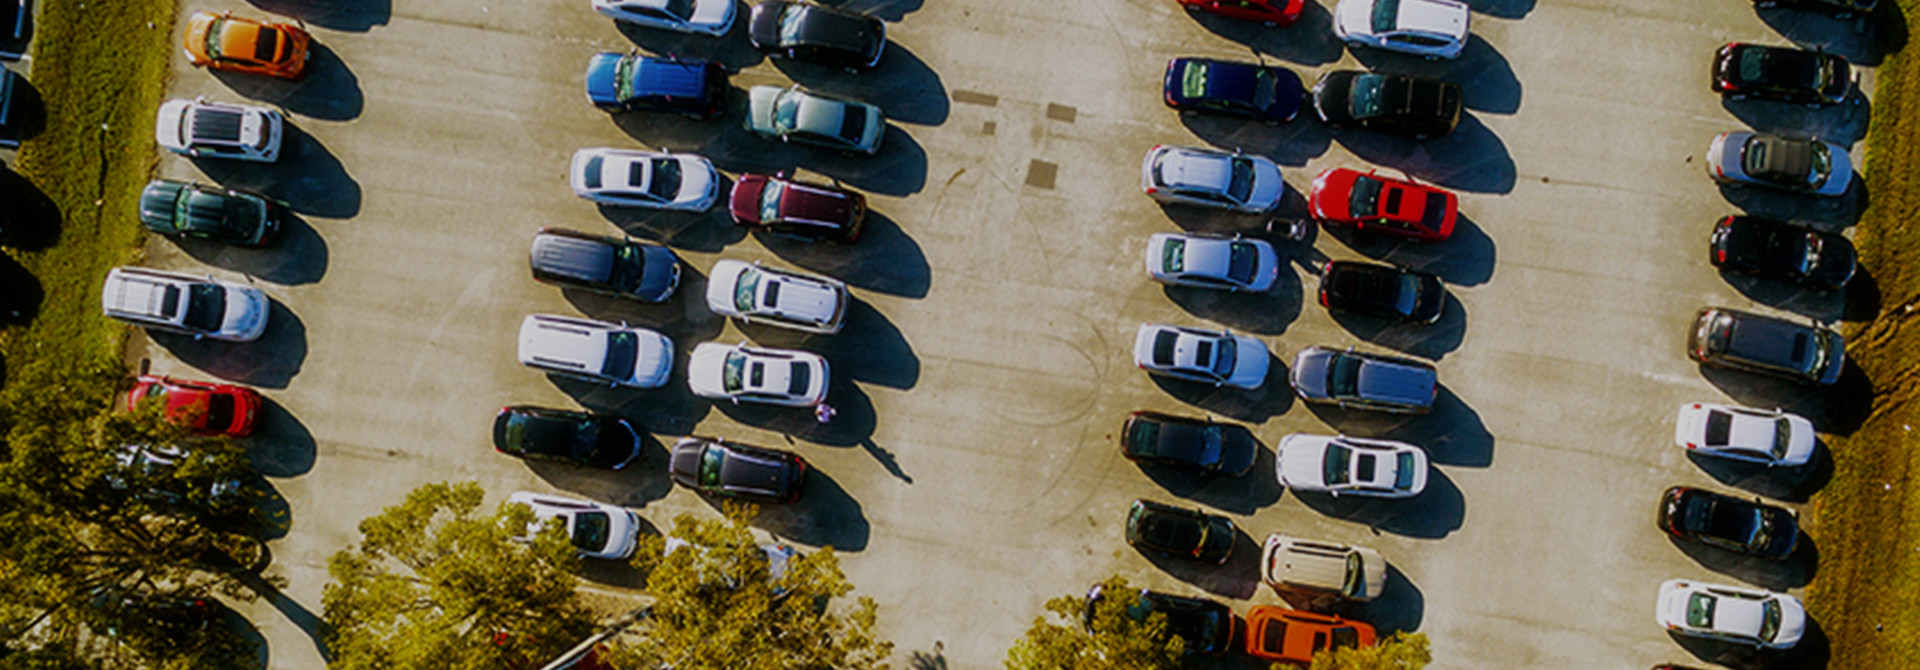car: (97, 256, 293, 347), (527, 222, 689, 326), (516, 300, 680, 396), (1308, 156, 1467, 254), (1690, 295, 1854, 387), (664, 421, 818, 516), (1702, 208, 1860, 300), (567, 138, 722, 231), (1273, 424, 1436, 512), (740, 78, 893, 170), (1291, 336, 1446, 425), (1671, 392, 1833, 478), (686, 333, 840, 423), (498, 487, 661, 572), (490, 397, 650, 483), (136, 167, 298, 251), (722, 162, 867, 254), (700, 249, 852, 336), (1082, 579, 1238, 664), (1656, 478, 1809, 563), (119, 366, 272, 451), (1119, 405, 1259, 496), (1654, 572, 1813, 650), (1315, 250, 1458, 336), (1135, 316, 1273, 404), (1163, 51, 1313, 130), (577, 45, 726, 122), (1708, 124, 1865, 196), (1142, 141, 1284, 220), (1144, 225, 1284, 305), (1713, 40, 1858, 118), (1325, 62, 1461, 142), (178, 4, 329, 75), (156, 93, 290, 167), (1262, 532, 1393, 606), (1243, 600, 1386, 668), (1123, 501, 1240, 574)
